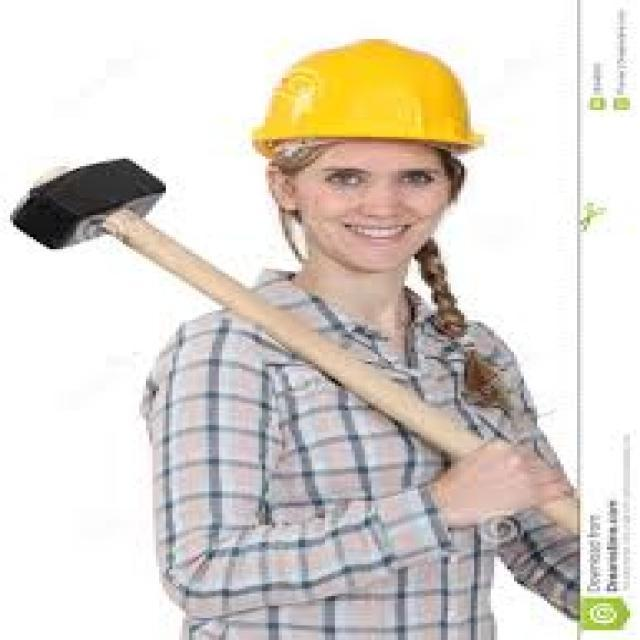hammer: (8, 149, 596, 535)
